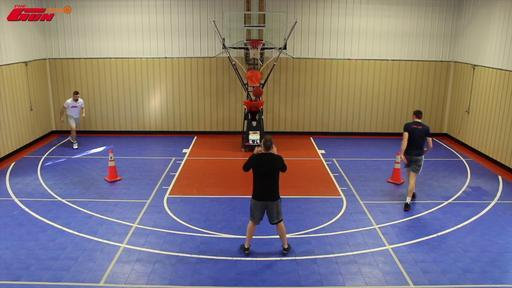ball: (252, 86, 264, 97)
human: (240, 136, 292, 256), (400, 110, 433, 212), (60, 91, 86, 150)
rim: (244, 40, 264, 58)
